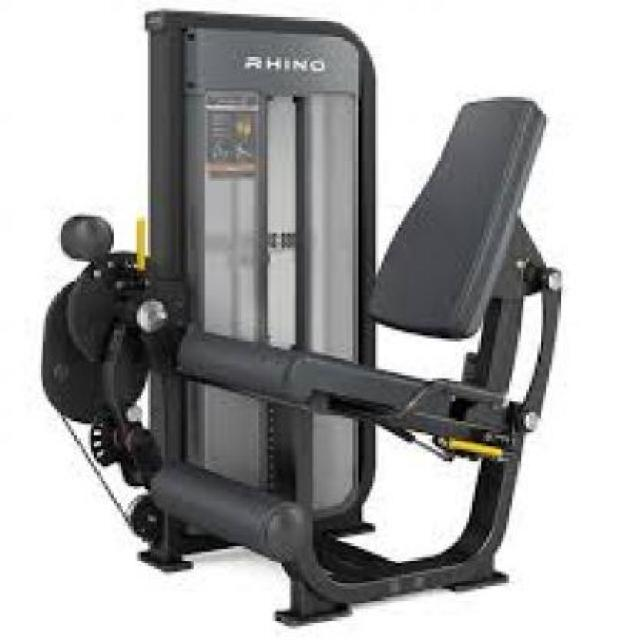leg extension: (41, 9, 565, 628)
